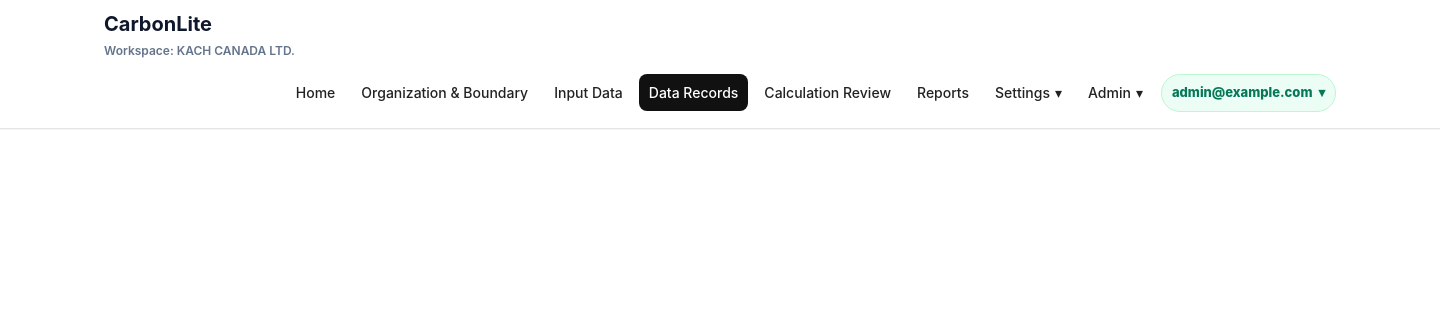
Test case: AppNav logout flow › promotes the five workflow pages and keeps supporting tools under Settings
Check: the link "Emission Factors" is not shown
Click the button "Settings ▾". click: (1029,93)
box: [985,74,1072,111]
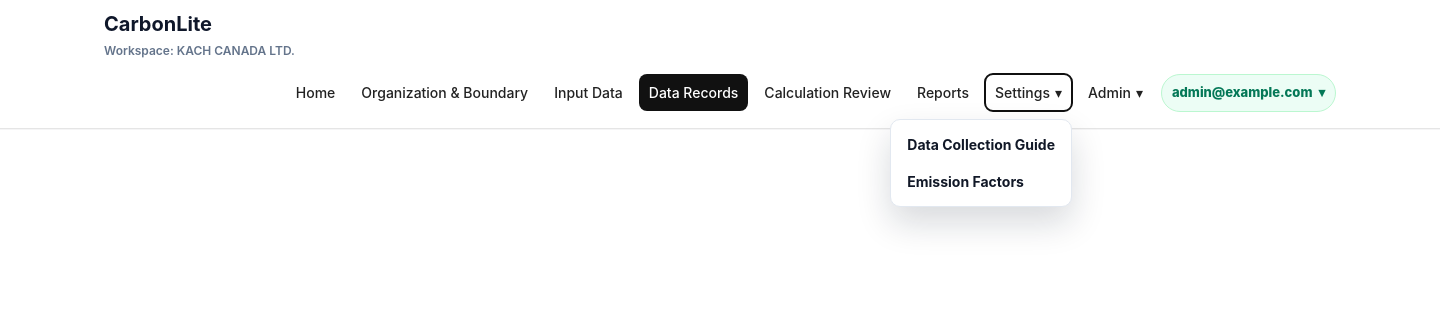
Click the button "Admin ▾". click: (1115,93)
box: [1078,74,1153,111]
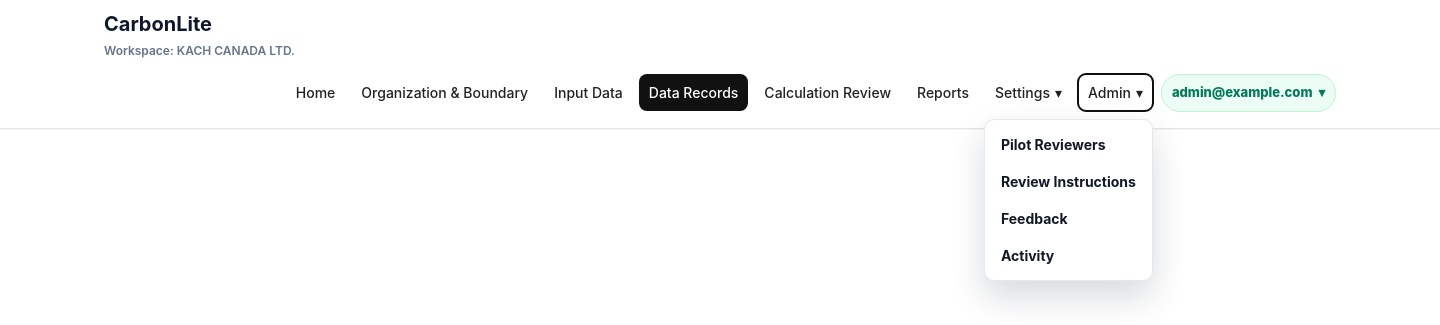
Check: the menu item "Pilot Reviewers" is shown, box [1001,136,1106,153]
